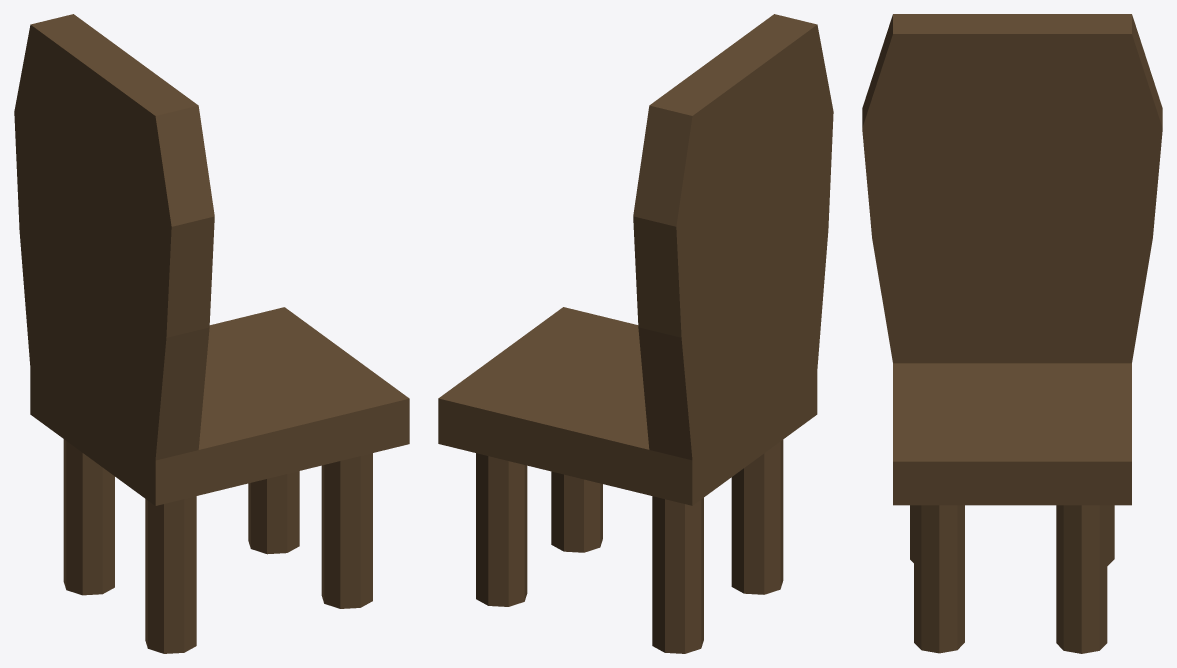
Rendered from DeskChair.fbx.
The picture shows the model from 3 angles, left to right: view 1: azimuth 30°, elevation 25°; view 2: azimuth 150°, elevation 25°; view 3: azimuth 270°, elevation 25°; orthographic projection. The views are drawn at different scales.
Parts seen in each view (by area): view 1: Cube.037; view 2: Cube.037; view 3: Cube.037.
Boxes of the visible parts, box(x1,y1,x2,y2) form: Cube.037: box(14, 14, 409, 653); Cube.037: box(438, 14, 833, 653); Cube.037: box(862, 14, 1162, 653).
Bounding box in the file's own units: 69.93 × 74.97 × 145.
